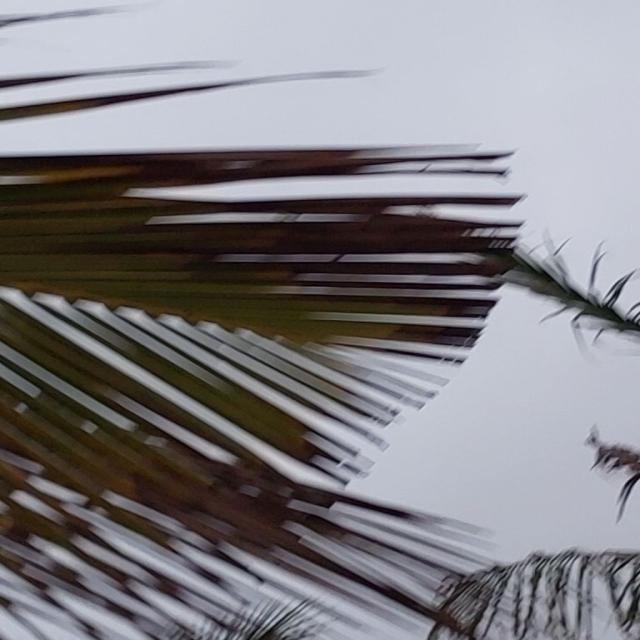gray leaf spot: (0, 142, 538, 545)
